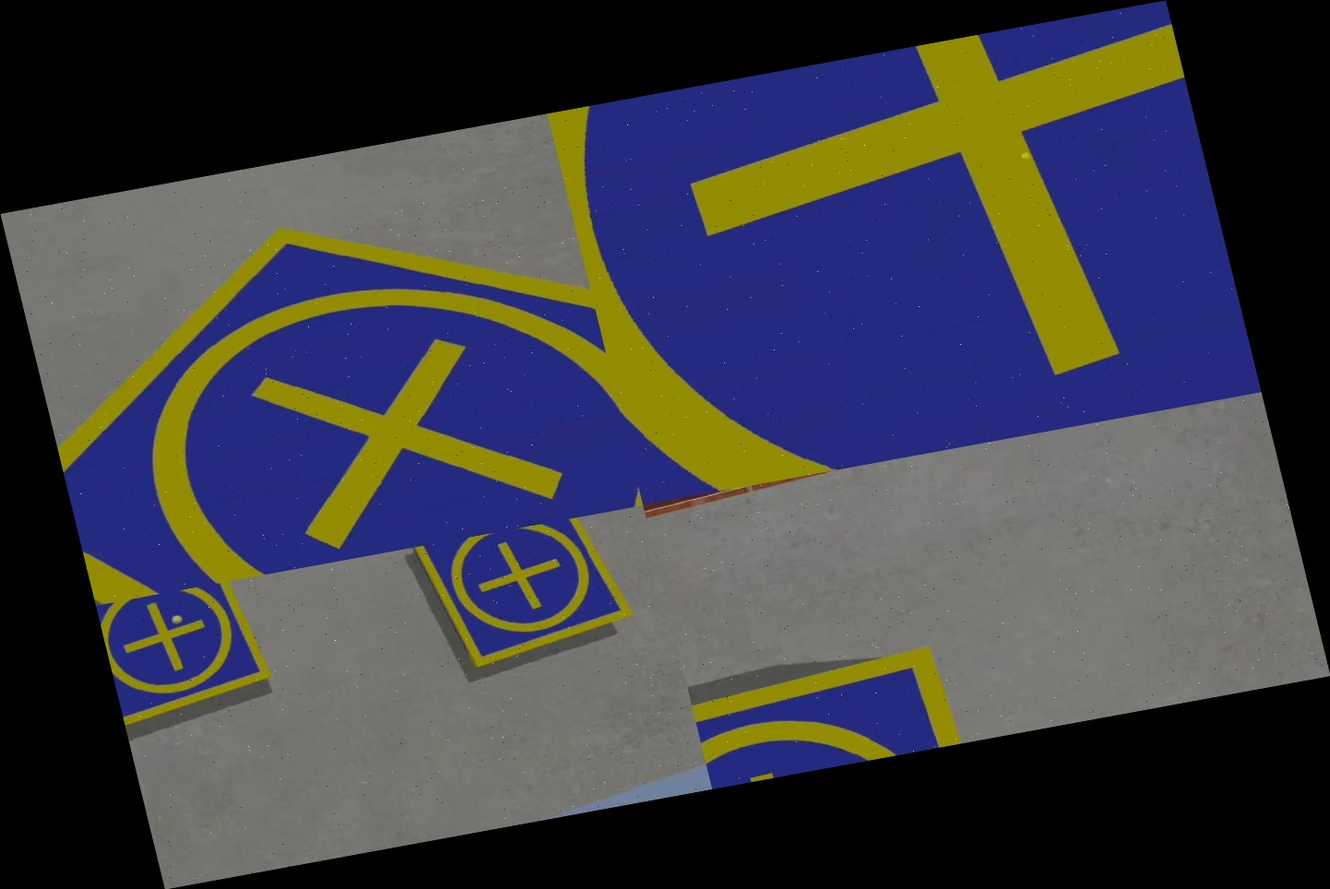small_base: (548, 0, 1261, 505), (9, 149, 643, 605), (408, 511, 642, 679), (96, 577, 280, 731)
